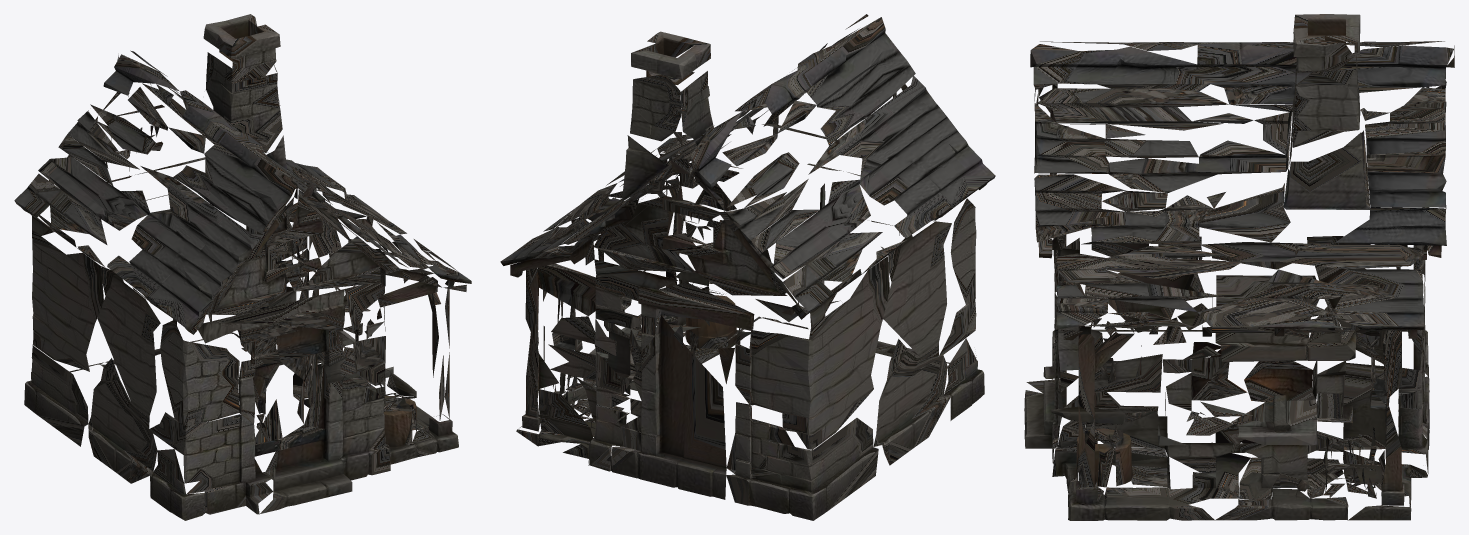
File: bld_ws_smithy_a_LOD1.glb
3 views of the same model, side by side, from view 1: azimuth 30°, elevation 25°; view 2: azimuth 150°, elevation 25°; view 3: azimuth 270°, elevation 25° (orthographic). The views are drawn at different scales.
Visible parts, largest first — view 1: geometry_0; view 2: geometry_0; view 3: geometry_0.
Part boxes in pixels (x1,y1,x2,y2): geometry_0: (14, 14, 471, 520); geometry_0: (500, 14, 995, 520); geometry_0: (1024, 14, 1454, 520).
Size of the model in its own units: 5.07 by 6 by 5.43.
1 material, 1 textured.
